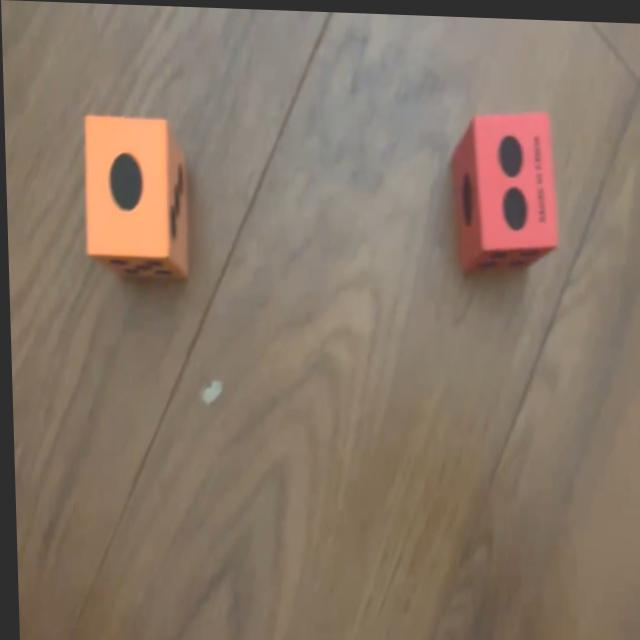red_block: (448, 103, 557, 268)
